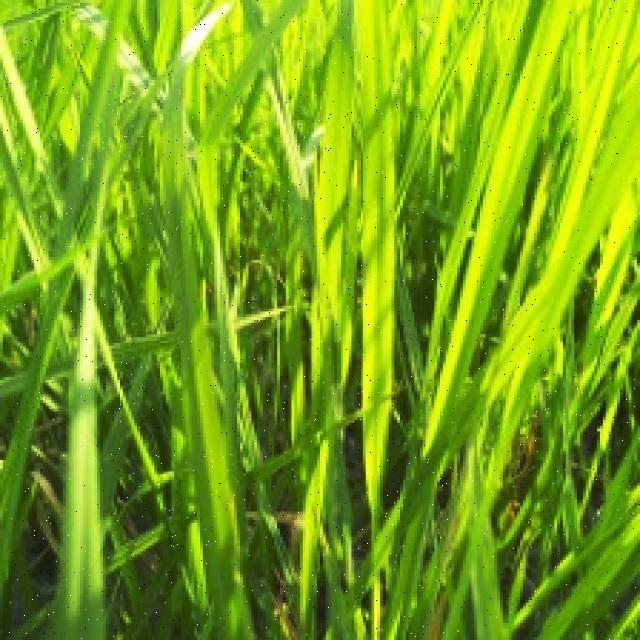health: (188, 0, 640, 640)
